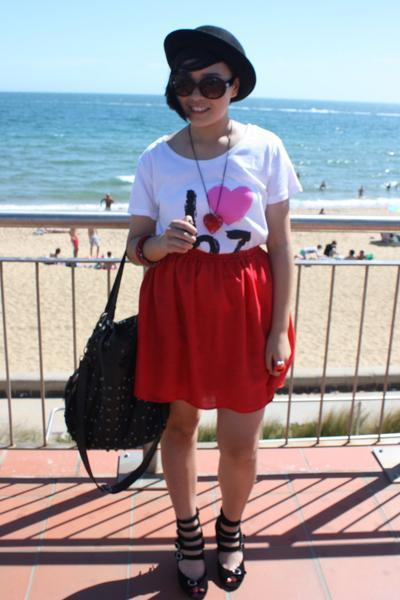bag: (63, 252, 171, 503)
hat: (164, 26, 255, 102)
shirt: (132, 120, 301, 259)
shoe: (173, 516, 246, 599)
skirt: (134, 252, 299, 412)
sunglass: (166, 69, 236, 98)
